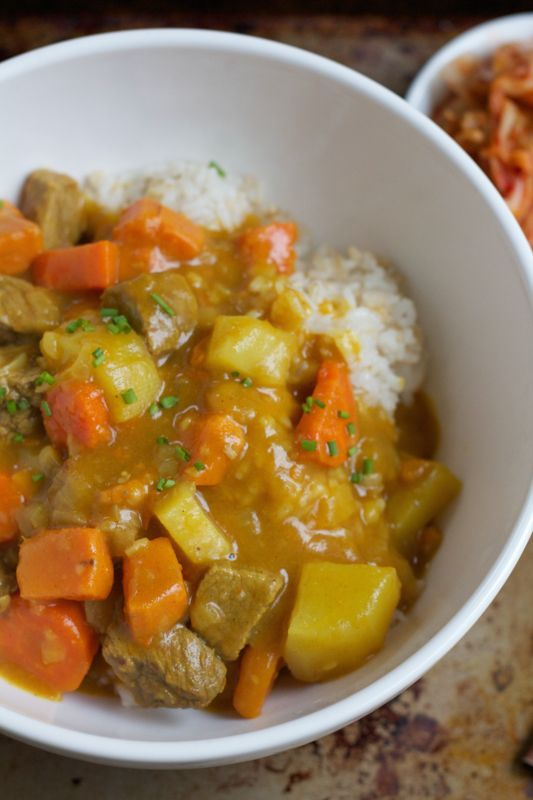curry: (12, 289, 359, 681), (39, 269, 290, 510), (35, 472, 296, 703), (201, 426, 440, 636), (19, 187, 244, 378)
